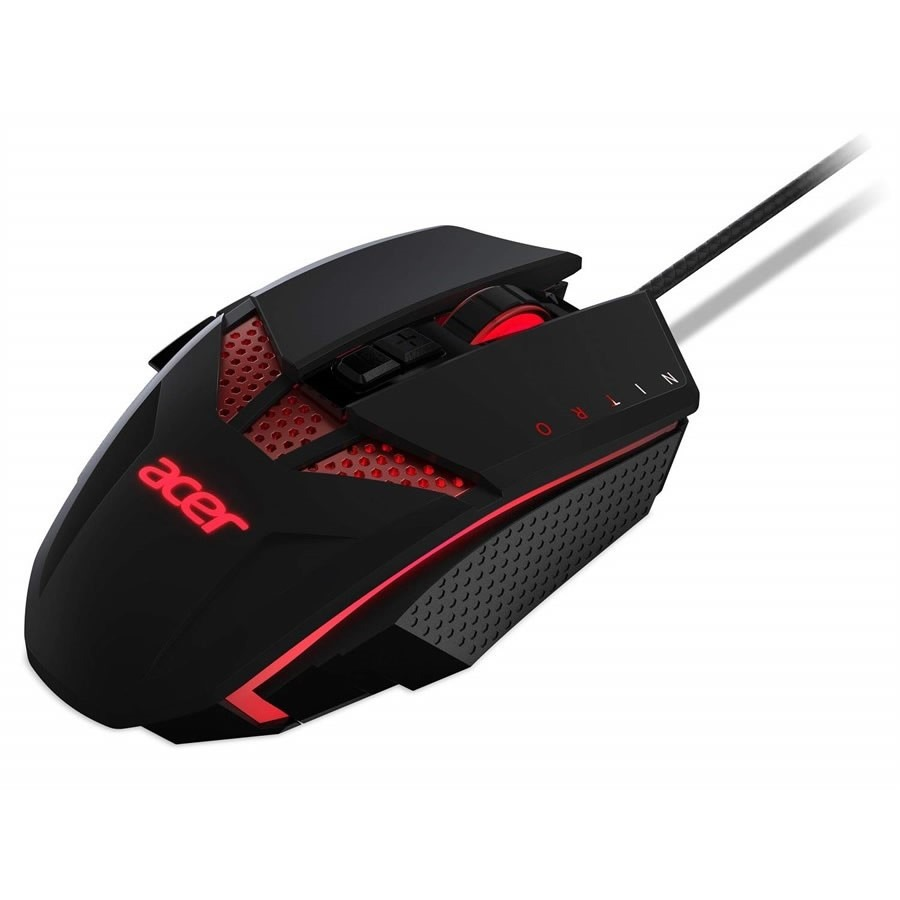mouse: (4, 193, 695, 749)
